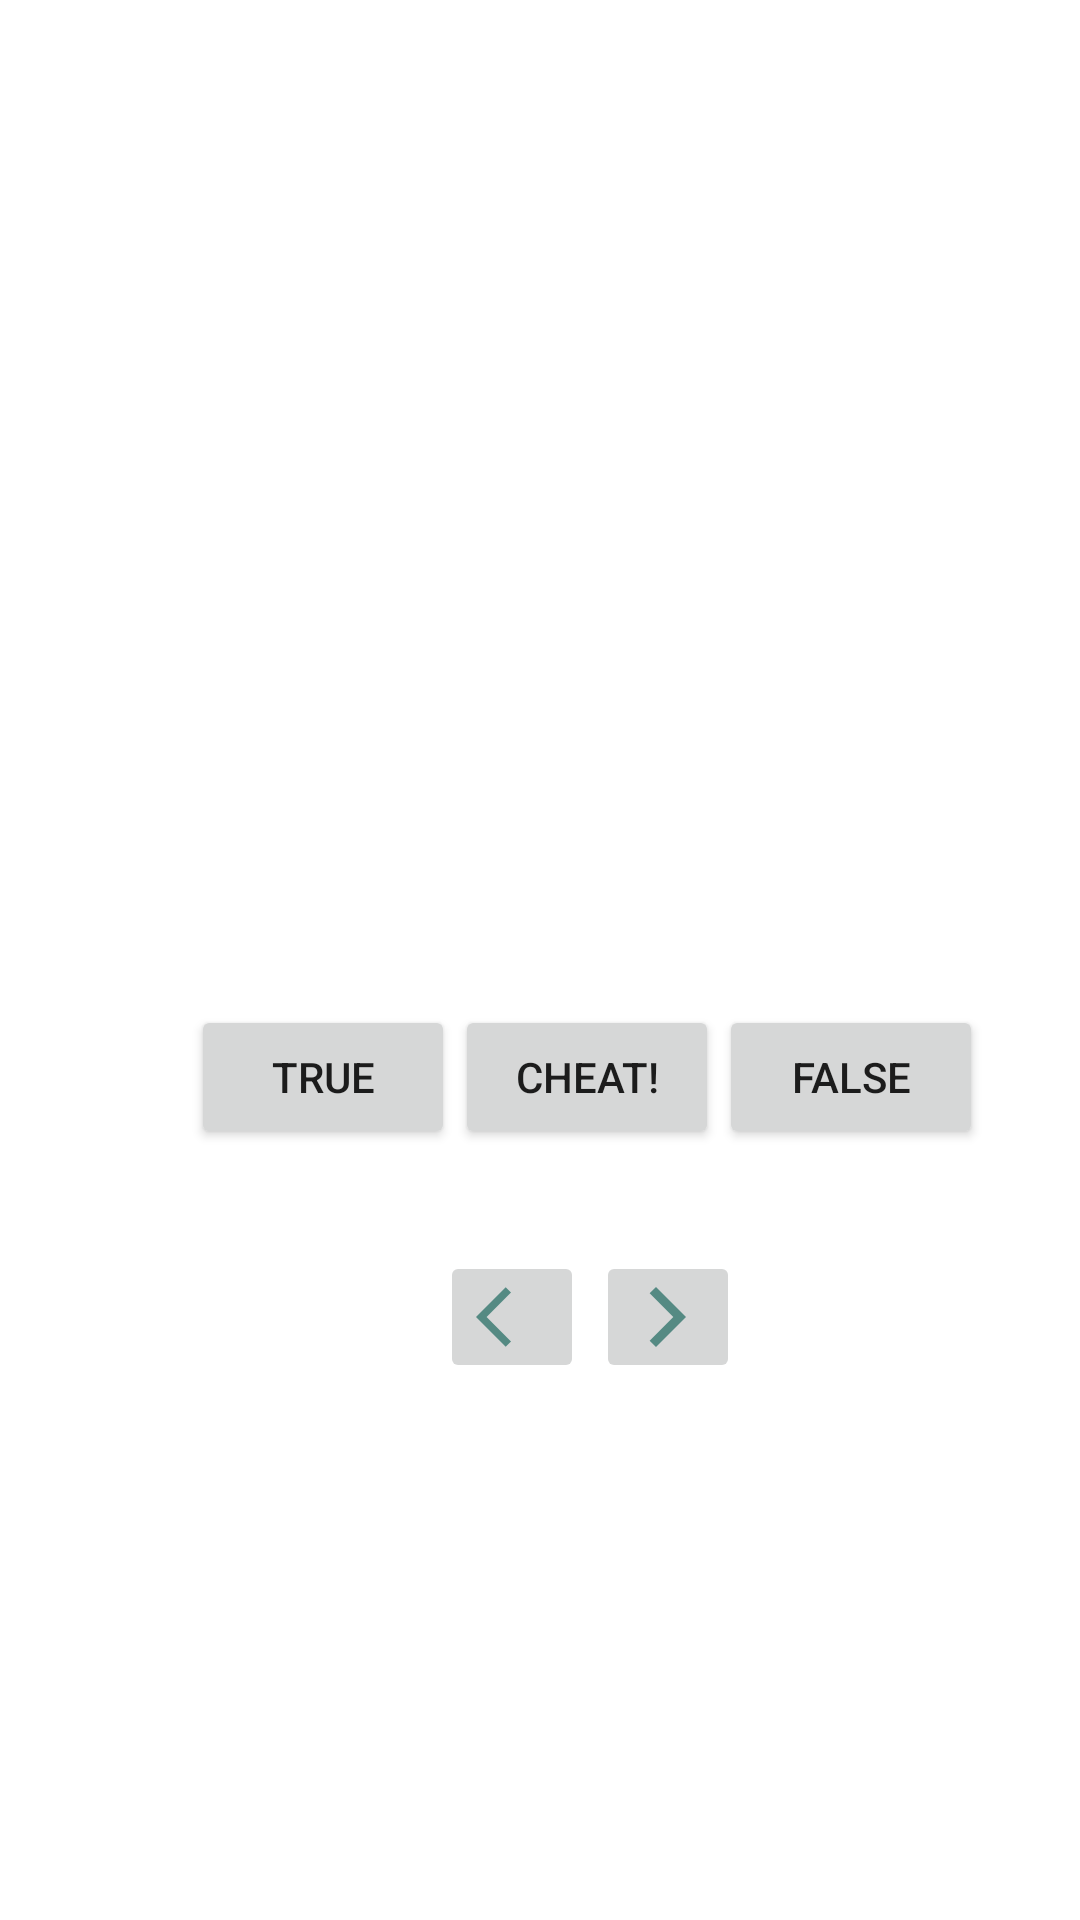

Screen size 1080px×1920px. Icon name, then its center in pixels as (x=x, y=y):
NEXT: (x=668, y=1317)
PREV: (x=512, y=1317)
